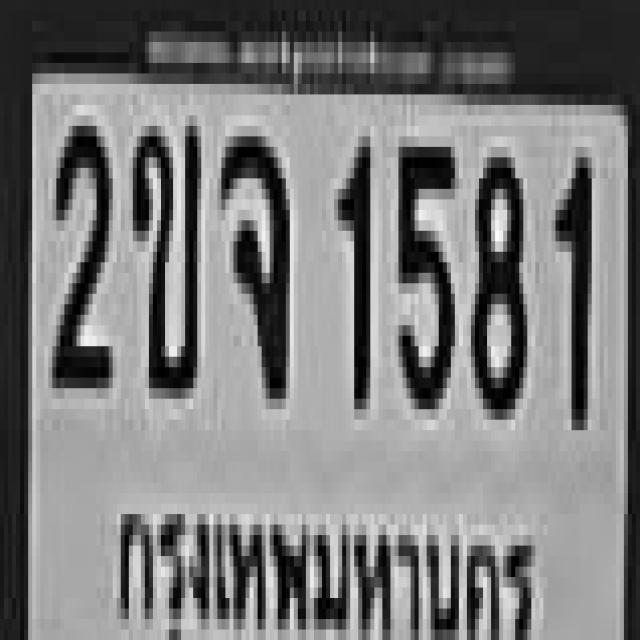1: (552, 147, 588, 420), (334, 126, 366, 399)
11KhorKhai: (129, 115, 197, 388)
17ChorChan: (217, 126, 286, 388)
2: (48, 115, 109, 378)
5: (394, 136, 451, 399)
8: (467, 147, 523, 409)
Bangkok: (106, 485, 544, 640)
